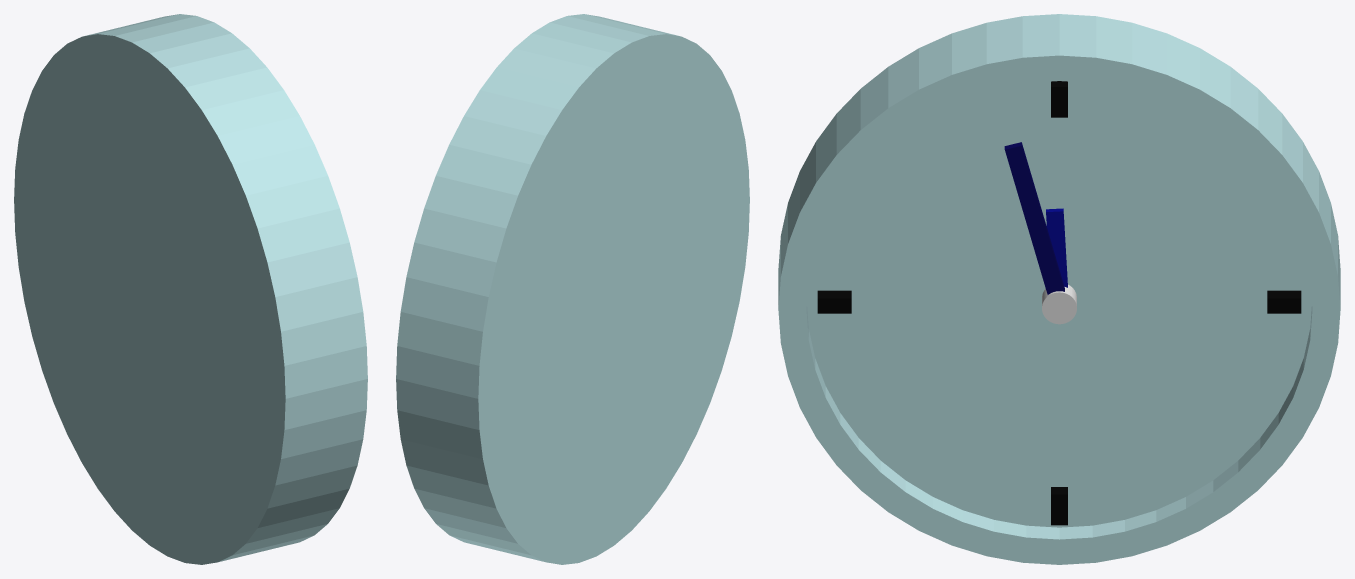
File: Clock.fbx
3 renders of one model, left to right at view 1: azimuth 30°, elevation 25°; view 2: azimuth 150°, elevation 25°; view 3: azimuth 270°, elevation 25°, orthographic. The views are drawn at different scales.
Parts seen in each view (by area): view 1: Cylinder; view 2: Cylinder; view 3: Cylinder, Cube.004, Cylinder.001, Cube.005, Cube, Cube.001.
Boxes of the visible parts, x1=… form: Cylinder: x1=14, y1=14, x2=367, y2=564; Cylinder: x1=396, y1=14, x2=749, y2=564; Cylinder: x1=778, y1=14, x2=1340, y2=564; Cube.004: x1=1004, y1=142, x2=1064, y2=294; Cylinder.001: x1=1042, y1=284, x2=1076, y2=324; Cube.005: x1=1046, y1=208, x2=1067, y2=287; Cube: x1=1267, y1=290, x2=1301, y2=313; Cube.001: x1=817, y1=290, x2=851, y2=313.
Size of the model in its own units: 35 by 200 by 200.
